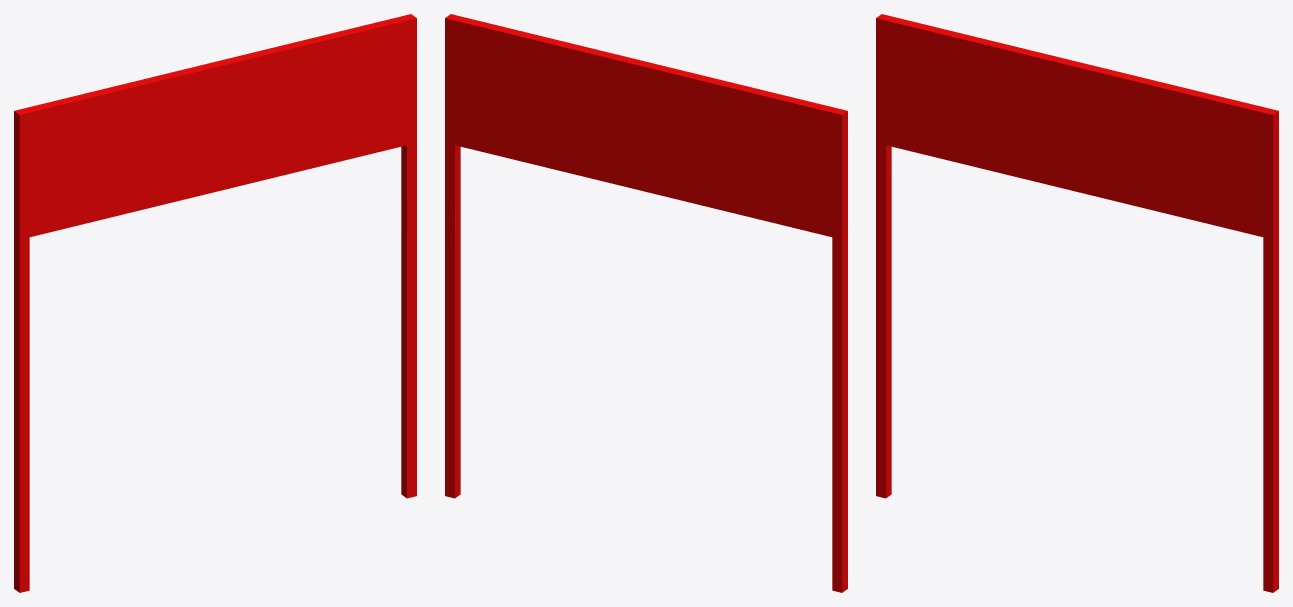
Rendered from Goal.fbx.
3 renders of one model, left to right at view 1: azimuth 30°, elevation 25°; view 2: azimuth 150°, elevation 25°; view 3: azimuth 330°, elevation 25°, orthographic.
Visible parts, largest first — view 1: Cube; view 2: Cube; view 3: Cube.
Part boxes in pixels (<box>): Cube: <box>14,14,416,592</box>; Cube: <box>445,14,847,592</box>; Cube: <box>876,14,1278,592</box>.
Bounding box in the file's own units: 200 × 230 × 5.
Materials: 1 (1 with a texture image).
